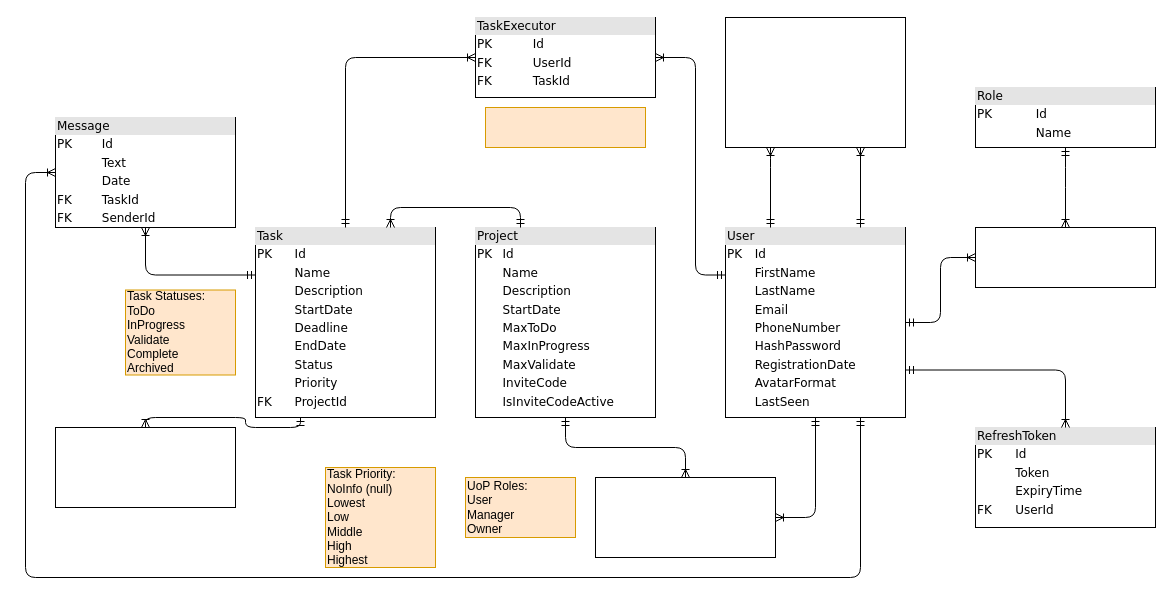
The diagram is 1173 pixels wide and 604 high, and some of its shapes have lost their labels. The shapes that lost their labels are listed below. From the top down, each one's centre as x and y in pixels, then its label:
At (815,82): "Ban PK Id DateFrom DateTo Hammer FK UserId FK AdminId".
At (565,127): "UNIQUE(UserId, TaskId)".
At (1065,257): "UserRole PK FK UserId PK FK RoleId".
At (145,467): "File PK Id Name FK TaskId".
At (685,517): "UserOnProject PK FK UserId PK FK ProjectId Role".
